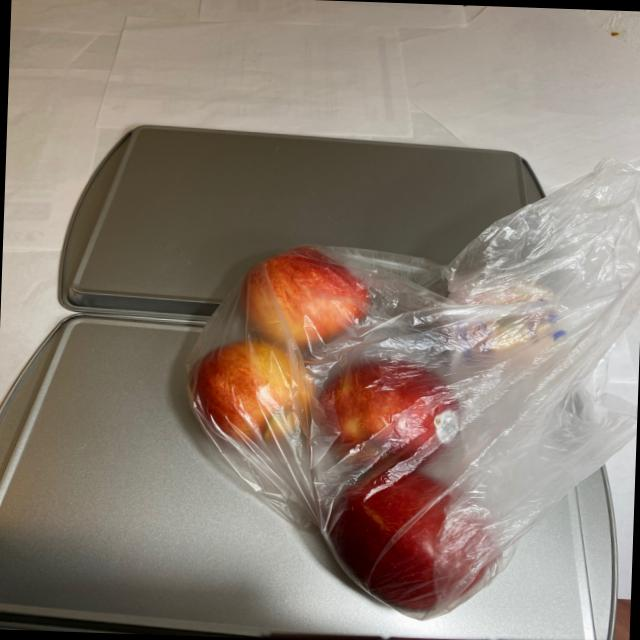apple: (173, 229, 569, 611)
